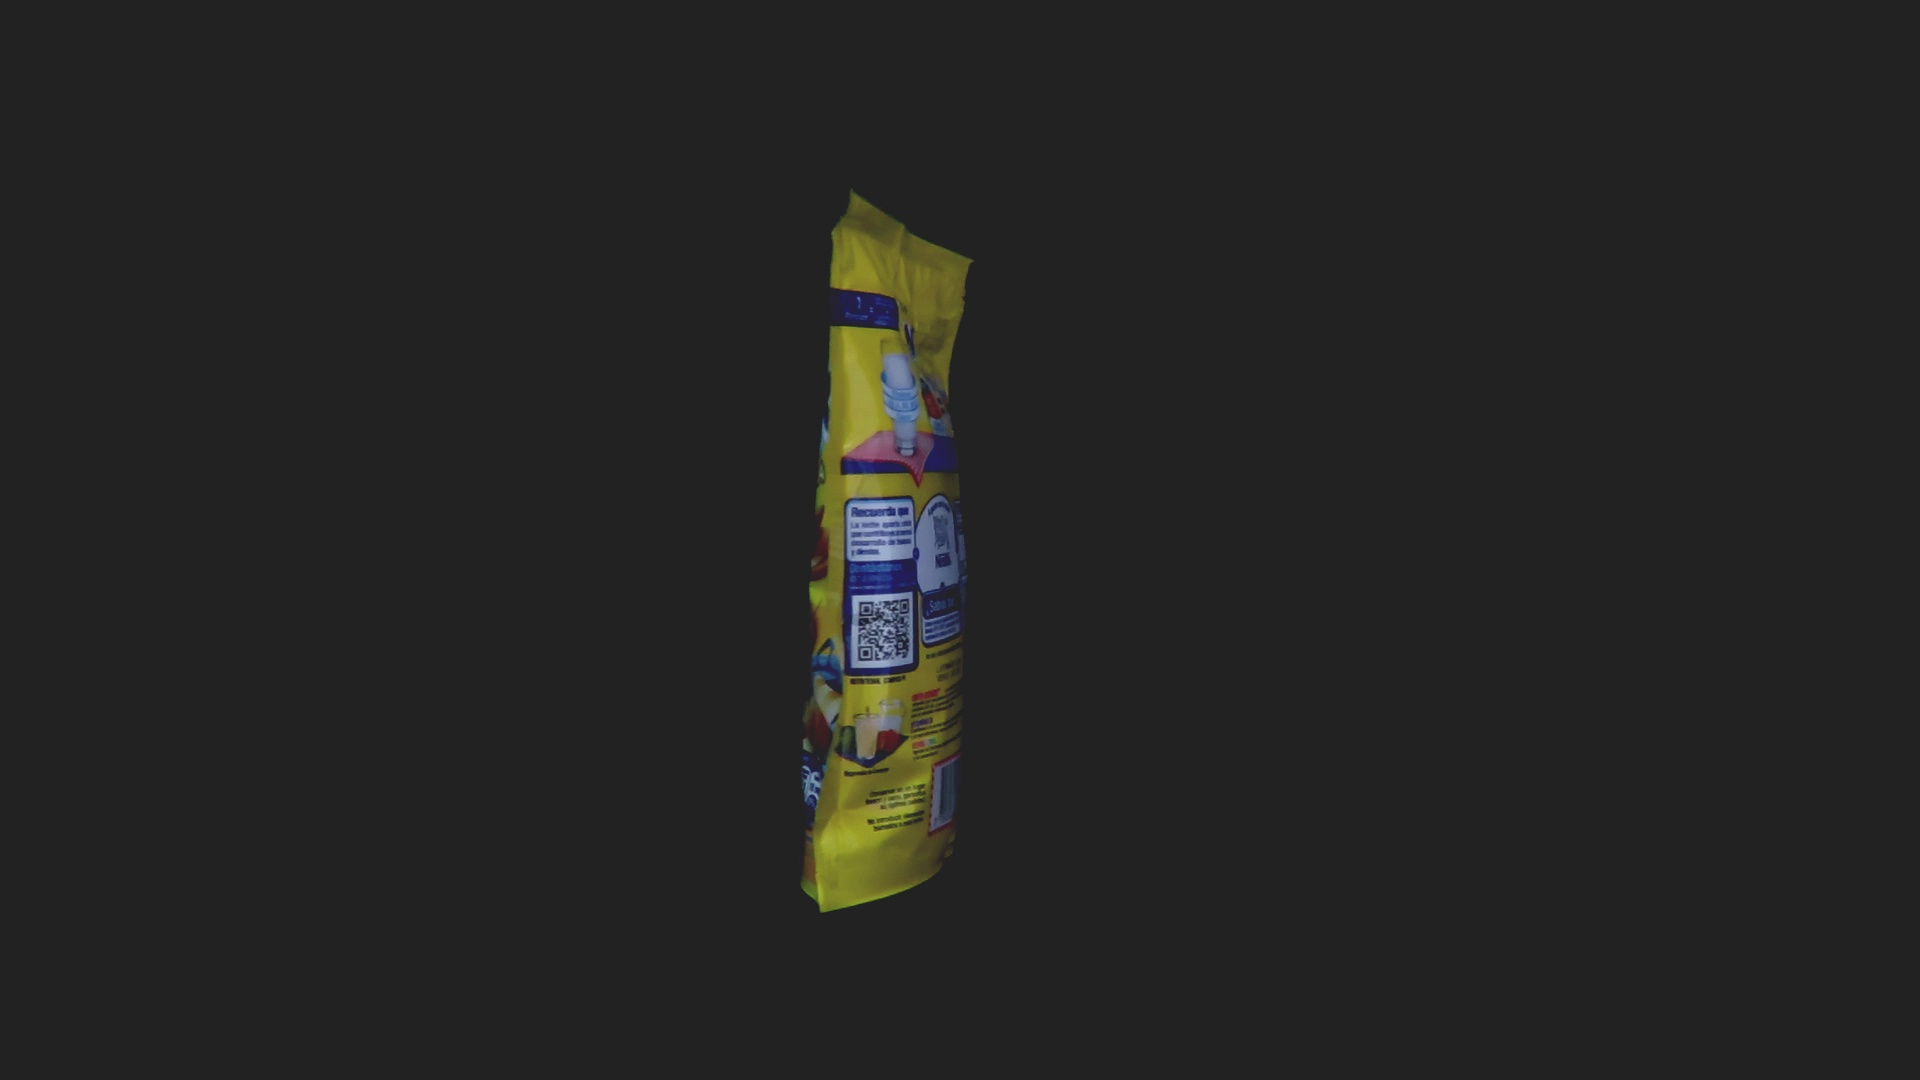COL0170306DYP20000: (795, 365, 973, 919)
